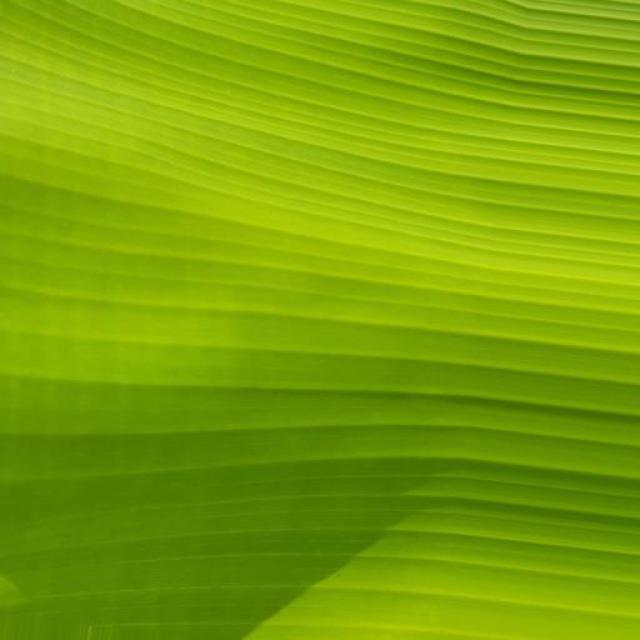Black_leaf_spot: (26, 0, 640, 574)
